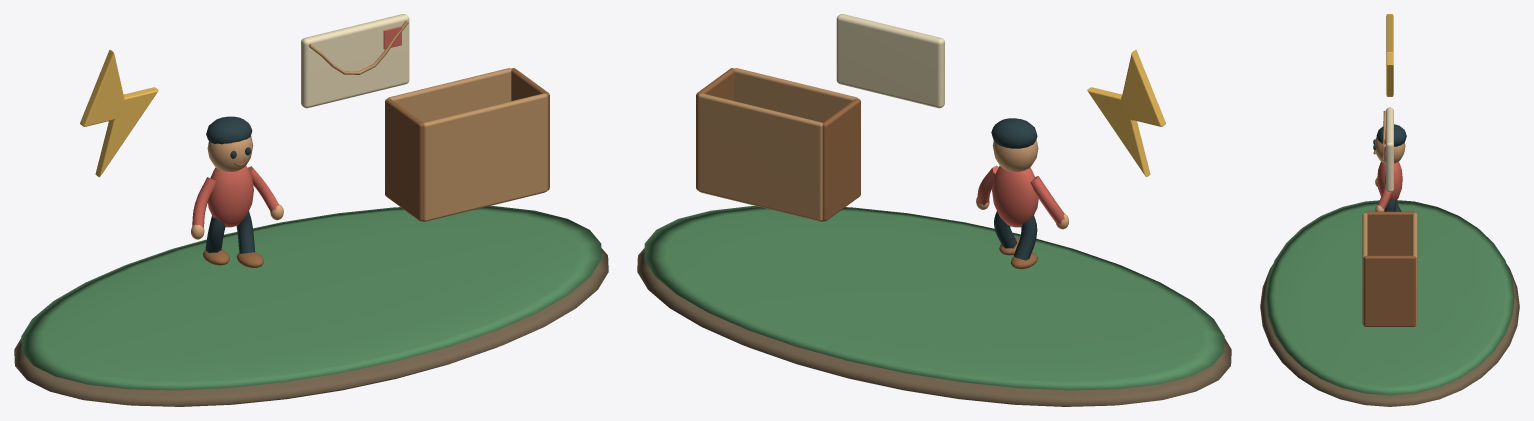
File: electronic-inbox.glb
3 renders of one model, left to right at view 1: azimuth 30°, elevation 25°; view 2: azimuth 150°, elevation 25°; view 3: azimuth 270°, elevation 25°, orthographic. The views are drawn at different scales.
Parts seen in each view (by area): view 1: electronic-inbox_surface_01, electronic-inbox_surface_08, electronic-inbox_surface_00, electronic-inbox_surface_07, electronic-inbox_surface_05, electronic-inbox_surface_02, electronic-inbox_surface_06, electronic-inbox_surface_04, electronic-inbox_surface_03; view 2: electronic-inbox_surface_01, electronic-inbox_surface_08, electronic-inbox_surface_00, electronic-inbox_surface_07, electronic-inbox_surface_05, electronic-inbox_surface_02, electronic-inbox_surface_06, electronic-inbox_surface_04, electronic-inbox_surface_03; view 3: electronic-inbox_surface_01, electronic-inbox_surface_05, electronic-inbox_surface_00, electronic-inbox_surface_08, electronic-inbox_surface_06, electronic-inbox_surface_07, electronic-inbox_surface_02, electronic-inbox_surface_04, electronic-inbox_surface_03.
Boxes of the visible parts, x1,y1,x2,y2 form: electronic-inbox_surface_01: [21, 206, 601, 390]; electronic-inbox_surface_08: [308, 20, 547, 221]; electronic-inbox_surface_00: [14, 248, 608, 406]; electronic-inbox_surface_07: [301, 14, 409, 108]; electronic-inbox_surface_05: [203, 68, 549, 267]; electronic-inbox_surface_02: [80, 49, 158, 177]; electronic-inbox_surface_06: [192, 26, 401, 227]; electronic-inbox_surface_04: [205, 116, 255, 253]; electronic-inbox_surface_03: [191, 136, 283, 239]; electronic-inbox_surface_01: [644, 206, 1224, 390]; electronic-inbox_surface_08: [698, 68, 858, 221]; electronic-inbox_surface_00: [637, 248, 1231, 406]; electronic-inbox_surface_07: [836, 14, 944, 108]; electronic-inbox_surface_05: [696, 68, 1037, 269]; electronic-inbox_surface_02: [1087, 49, 1165, 177]; electronic-inbox_surface_06: [977, 165, 1064, 227]; electronic-inbox_surface_04: [991, 118, 1037, 260]; electronic-inbox_surface_03: [976, 139, 1069, 229]; electronic-inbox_surface_01: [1265, 200, 1514, 395]; electronic-inbox_surface_05: [1364, 150, 1415, 326]; electronic-inbox_surface_00: [1260, 264, 1519, 406]; electronic-inbox_surface_08: [1362, 110, 1417, 325]; electronic-inbox_surface_06: [1377, 139, 1402, 210]; electronic-inbox_surface_07: [1386, 107, 1393, 192]; electronic-inbox_surface_02: [1386, 14, 1393, 96]; electronic-inbox_surface_04: [1373, 124, 1406, 211]; electronic-inbox_surface_03: [1375, 137, 1405, 211].
Bounding box in the file's own units: 4.56 × 2.49 × 2.5.
